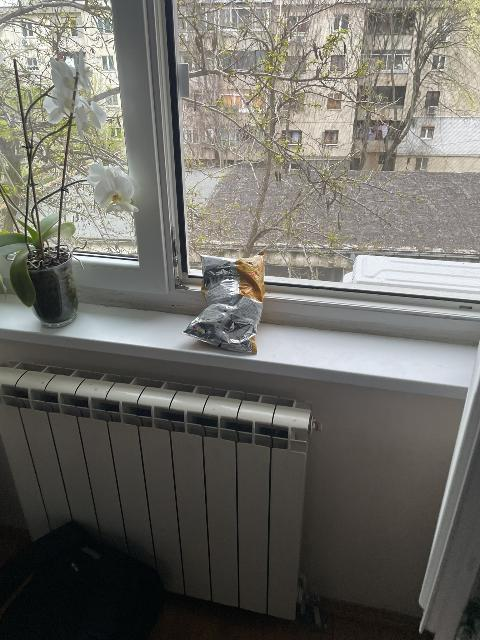Chio Hula Hoops Cheese 70g: (182, 251, 264, 350)
